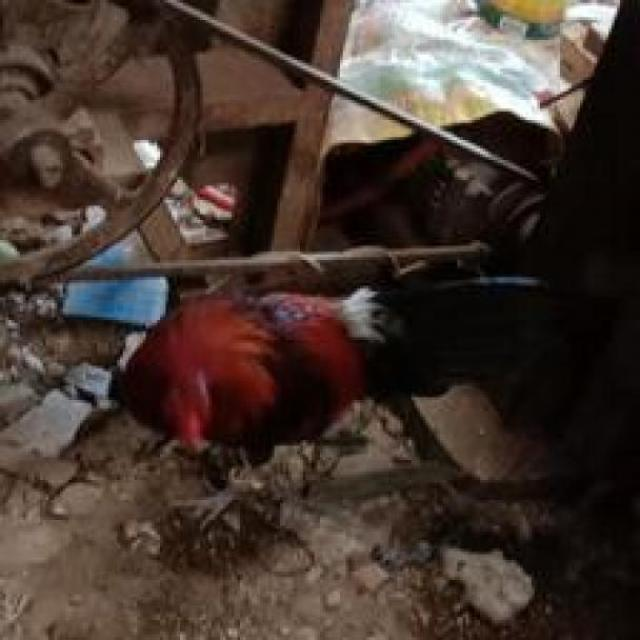Chicken: (99, 266, 508, 519)
